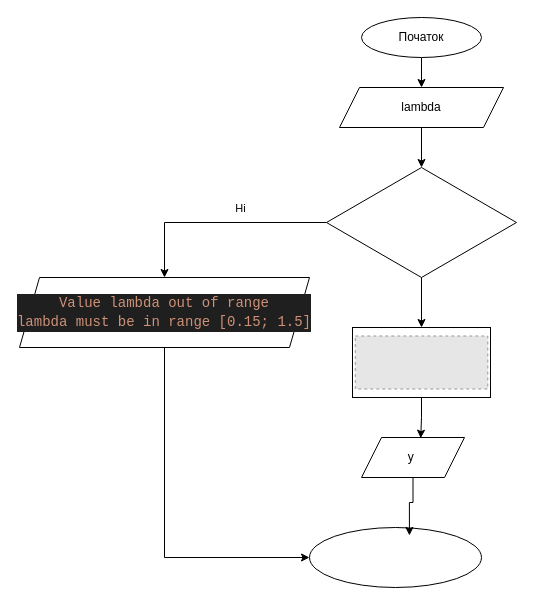
Some shapes in this 534 by 605 pixel diagram are drawn without their labels. Grey dashed boxes stand in for pictures. Each missing label, with the centre of its shape:
"lambda = < 0.15f lambda >= 1.5f" belongs at [421,222].
"Кінець" belongs at [395,557].
